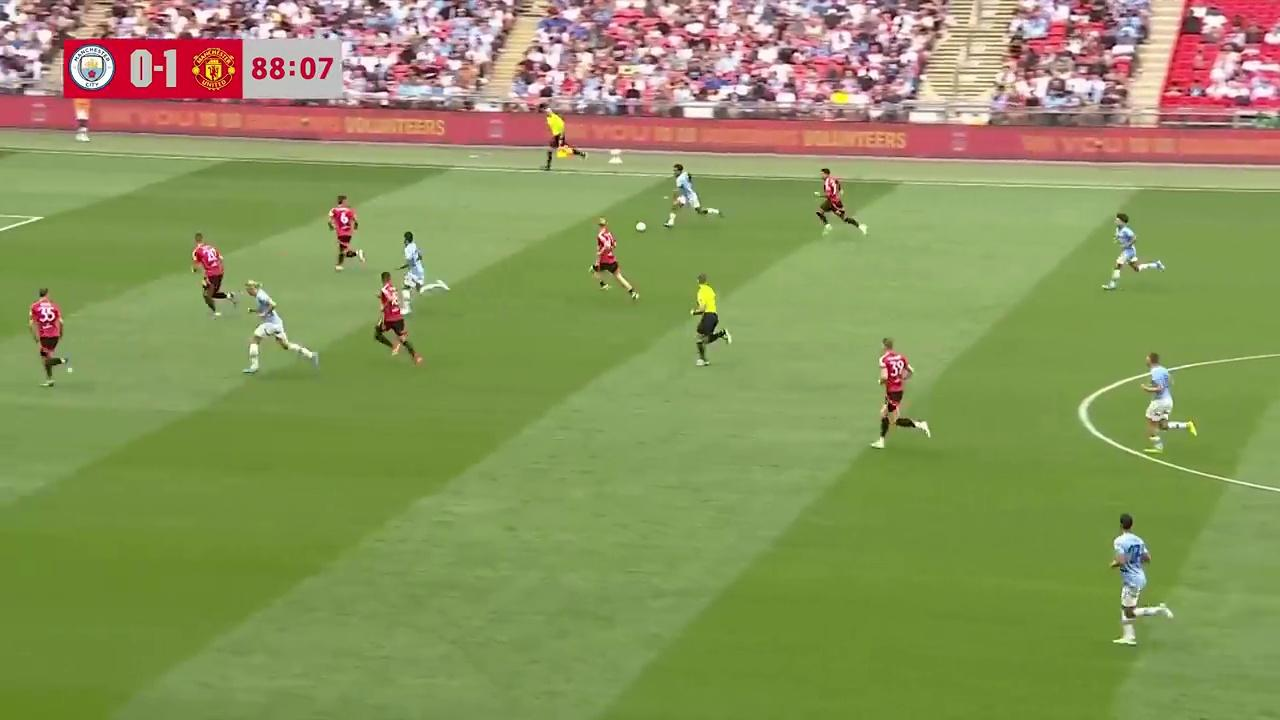ball: (634, 218, 647, 233)
player: (1109, 512, 1172, 646), (873, 339, 930, 450), (240, 282, 308, 375), (1110, 512, 1153, 646), (374, 272, 424, 365), (1141, 351, 1188, 447), (28, 287, 72, 387), (589, 220, 639, 300), (191, 232, 236, 317), (819, 170, 867, 236), (1102, 213, 1142, 290), (401, 231, 442, 301), (328, 194, 364, 272), (664, 165, 706, 227)
referee: (689, 273, 732, 367), (541, 111, 574, 170)
